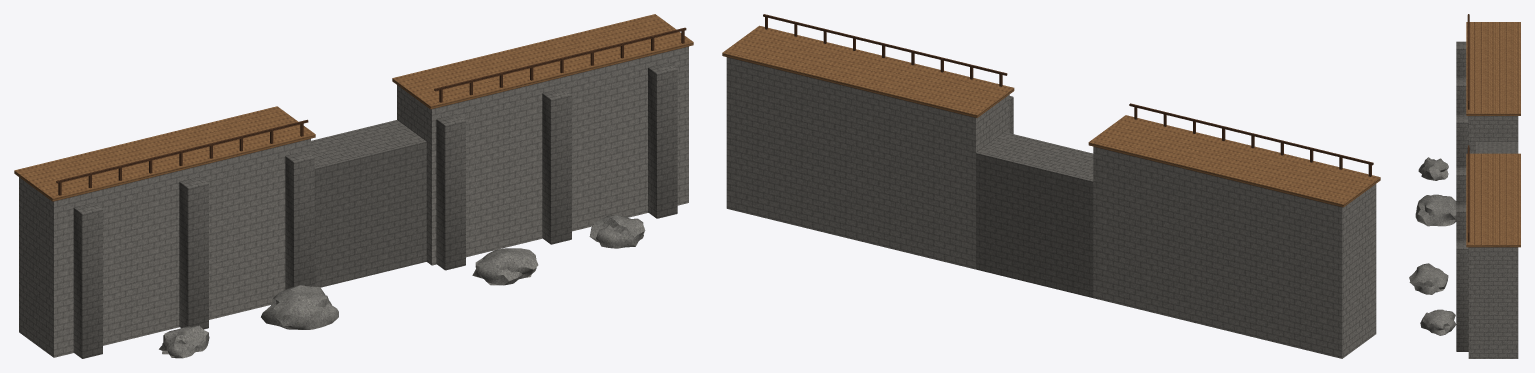
Rendered from dam.gltf.
The picture shows the model from 3 angles, left to right: view 1: azimuth 30°, elevation 25°; view 2: azimuth 150°, elevation 25°; view 3: azimuth 270°, elevation 25°; orthographic projection. The views are drawn at different scales.
Parts seen in each view (by area): view 1: DamMesh; view 2: DamMesh; view 3: DamMesh.
Boxes of the visible parts, x1,y1,x2,y2 form: DamMesh: [14, 14, 693, 358]; DamMesh: [722, 14, 1380, 358]; DamMesh: [1409, 14, 1520, 358].
Bounding box in the file's own units: 42.4 × 11.17 × 8.99.
5 materials, 5 textured.
